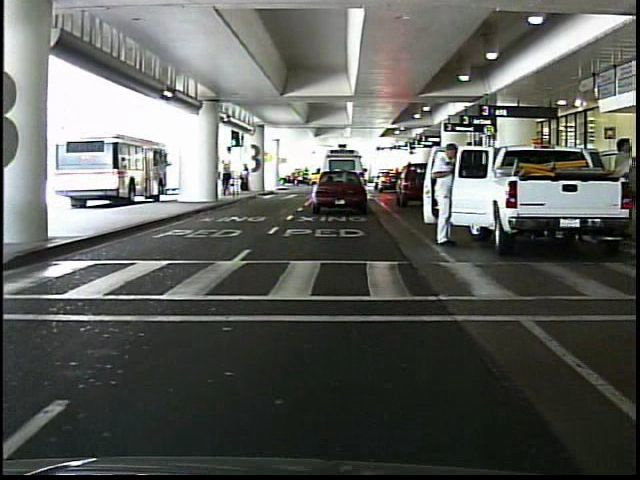person: (427, 138, 454, 247), (606, 135, 633, 236), (220, 157, 234, 198), (238, 163, 254, 195)
